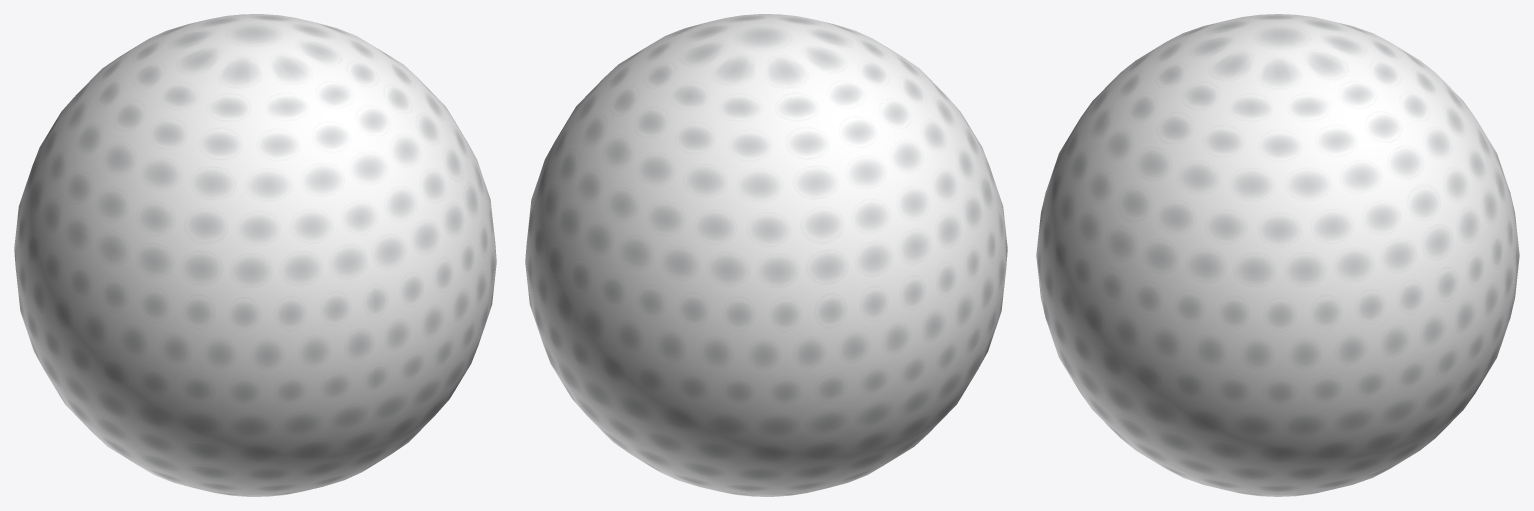
File: golf.fbx
3 renders of one model, left to right at view 1: azimuth 30°, elevation 25°; view 2: azimuth 150°, elevation 25°; view 3: azimuth 270°, elevation 25°, orthographic.
Visible parts, largest first — view 1: golf; view 2: golf; view 3: golf.
Boxes of the visible parts, x1,y1,x2,y2 form: golf: [14, 14, 496, 496]; golf: [525, 14, 1007, 496]; golf: [1036, 14, 1519, 496].
Size of the model in its own units: 30 by 30.17 by 30.
